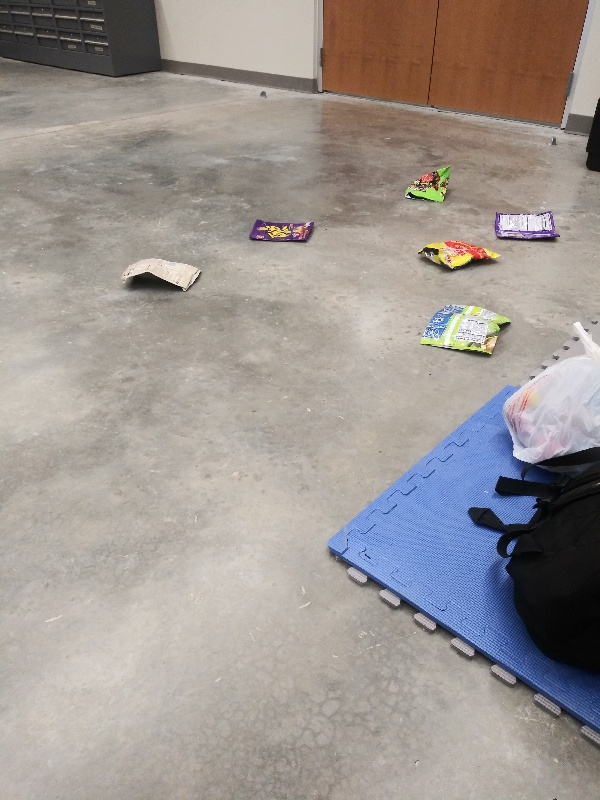bag: (412, 298, 512, 359), (115, 255, 208, 297), (412, 236, 506, 273), (491, 204, 563, 245), (396, 163, 458, 205), (244, 216, 320, 249)
